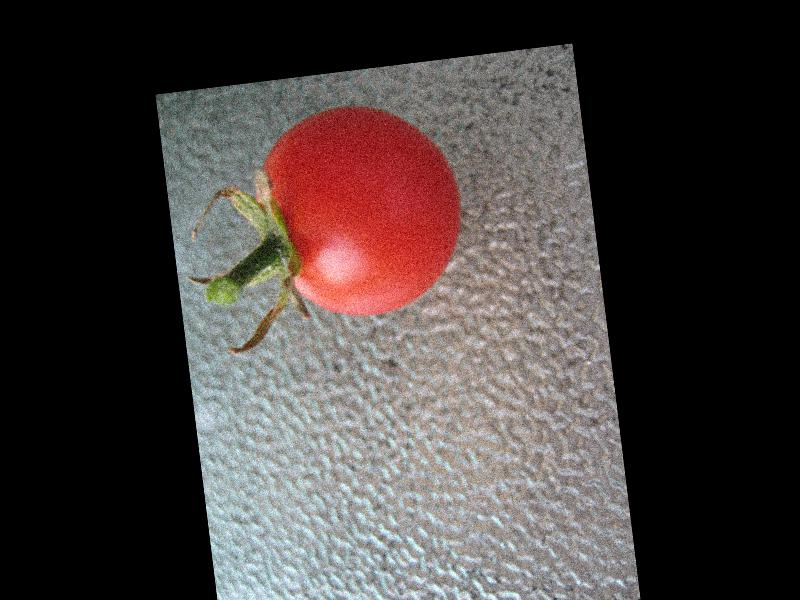Tomato: (256, 95, 473, 329)
